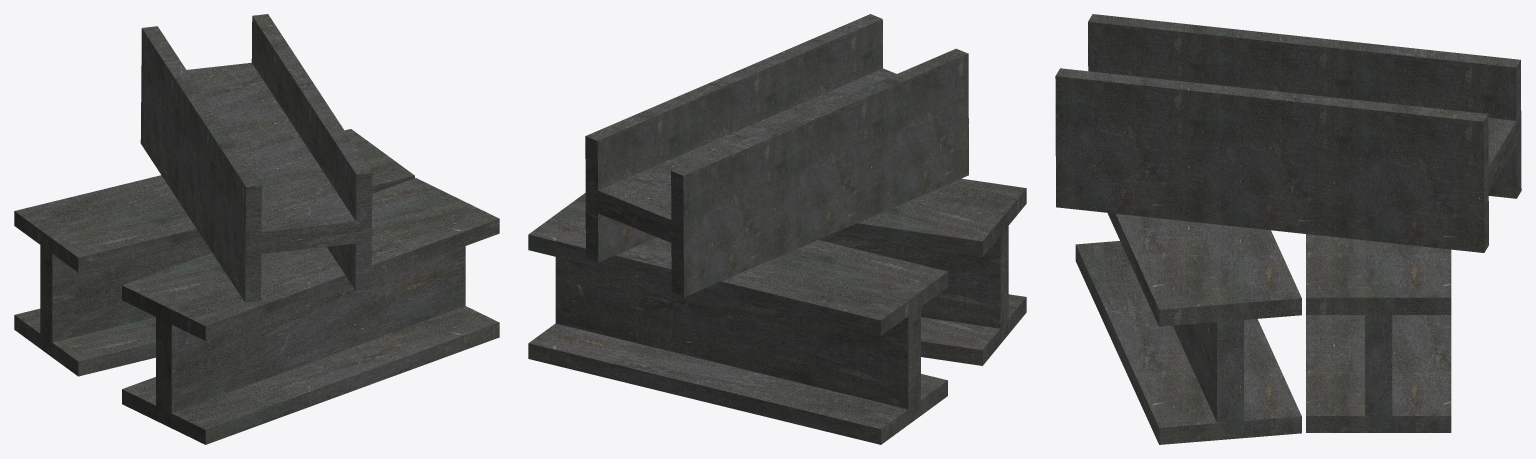
Rendered from pickup_steel.FBX.
The picture shows the model from 3 angles, left to right: view 1: azimuth 30°, elevation 25°; view 2: azimuth 150°, elevation 25°; view 3: azimuth 270°, elevation 25°; orthographic projection. The views are drawn at different scales.
Parts seen in each view (by area): view 1: Balks; view 2: Balks; view 3: Balks.
Part boxes in pixels (box(x1,y1,x2,y2)): Balks: box(14, 14, 499, 444); Balks: box(528, 14, 1026, 444); Balks: box(1055, 14, 1521, 444).
Bounding box in the file's own units: 31.79 × 20.57 × 31.61.
Materials: 1 (1 with a texture image).
